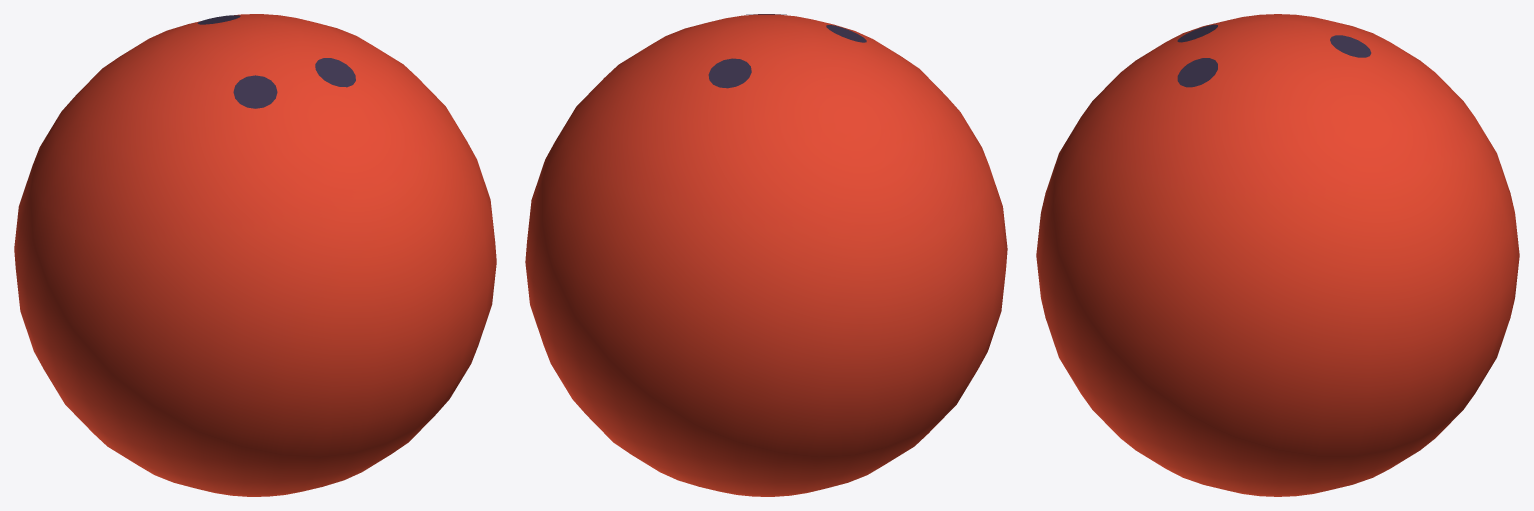
The model's file is bowlingBall.gltf.
3 renders of one model, left to right at view 1: azimuth 30°, elevation 25°; view 2: azimuth 150°, elevation 25°; view 3: azimuth 270°, elevation 25°, orthographic.
Visible parts, largest first — view 1: BowlingBall; view 2: BowlingBall; view 3: BowlingBall.
Part boxes in pixels (x1=…): BowlingBall: x1=14, y1=14, x2=496, y2=496; BowlingBall: x1=525, y1=14, x2=1007, y2=496; BowlingBall: x1=1036, y1=14, x2=1519, y2=496.
Bounding box in the file's own units: 0.2 × 0.2 × 0.2.
1 material, 1 textured.
